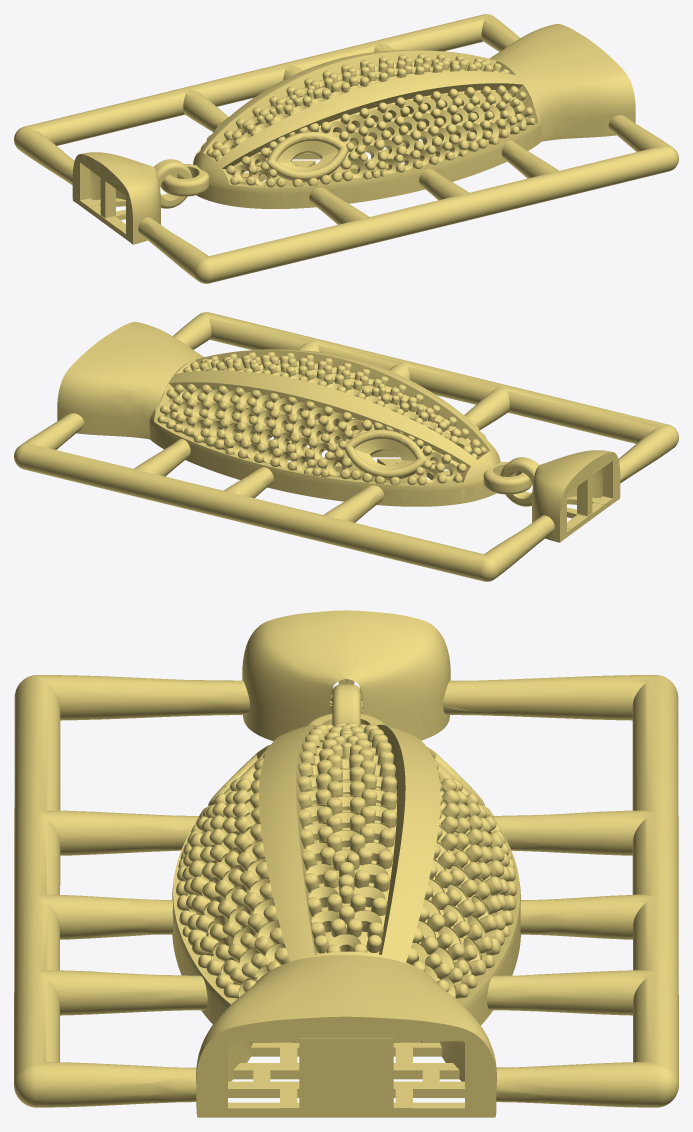
File: kolyeler2-58_a.glb
3 views of the same model, one above another, from view 1: azimuth 30°, elevation 25°; view 2: azimuth 150°, elevation 25°; view 3: azimuth 270°, elevation 25° (orthographic). The views are drawn at different scales.
Visible parts, largest first — view 1: Renderer Node; view 2: Renderer Node; view 3: Renderer Node.
Part boxes in pixels (x1=…): Renderer Node: x1=14, y1=14, x2=678, y2=283; Renderer Node: x1=14, y1=312, x2=678, y2=581; Renderer Node: x1=14, y1=610, x2=678, y2=1117.
Size of the model in its own units: 34.43 by 5.92 by 23.46.
